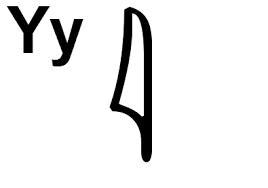Reed: (108, 6, 155, 164)
